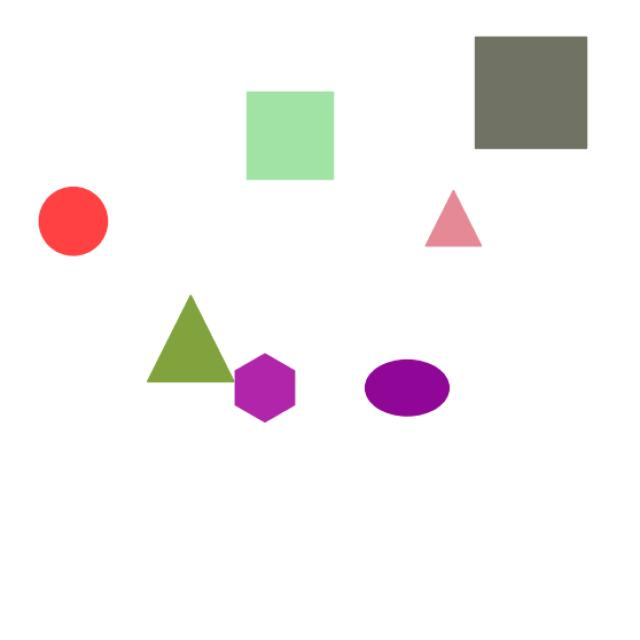Circle: (29, 170, 144, 285)
Hexagon: (222, 339, 323, 441)
Oval: (344, 349, 462, 428)
Triangle: (130, 284, 238, 402), (416, 176, 502, 268)
square: (454, 21, 600, 160), (229, 82, 367, 203)
